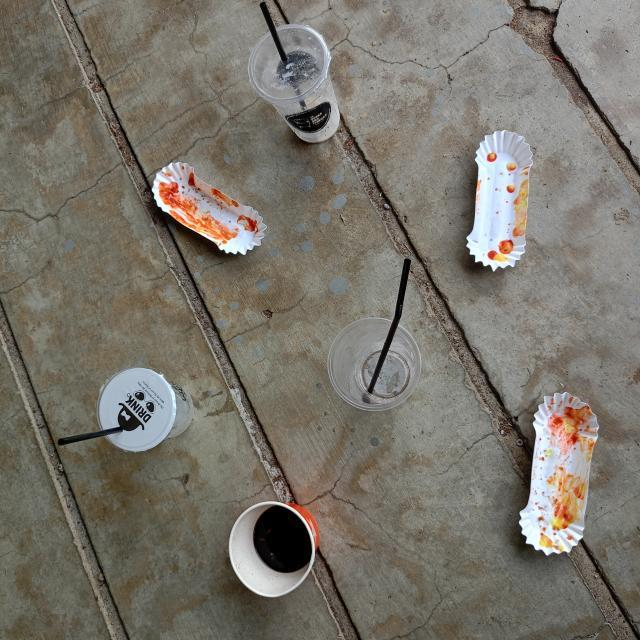recyclable waste: (500, 377, 622, 566), (236, 11, 362, 163), (444, 116, 556, 282), (137, 148, 277, 270), (213, 489, 335, 614), (316, 308, 432, 424), (86, 347, 200, 464)
